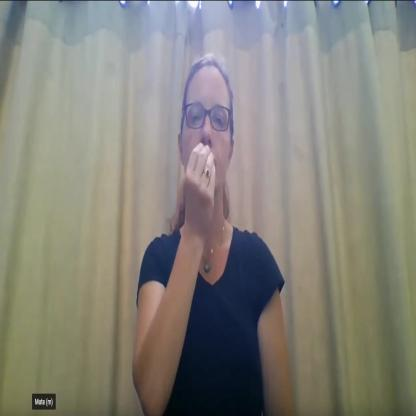Food: (172, 50, 247, 275)
